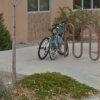Bicycle: (35, 19, 71, 61)
